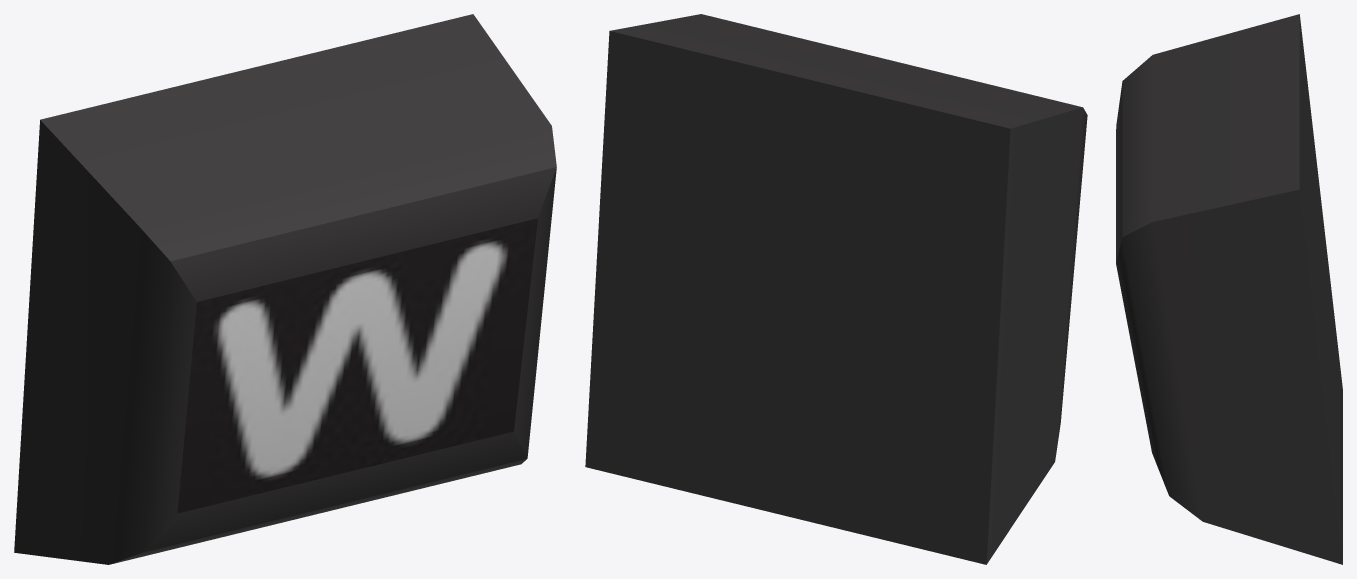
The model's file is wKEYNEW.fbx.
The picture shows the model from 3 angles, left to right: view 1: azimuth 30°, elevation 25°; view 2: azimuth 150°, elevation 25°; view 3: azimuth 270°, elevation 25°; orthographic projection. The views are drawn at different scales.
Visible parts, largest first — view 1: wKey; view 2: wKey; view 3: wKey.
Part boxes in pixels (<box>): wKey: <box>14,14,556,564</box>; wKey: <box>585,14,1087,564</box>; wKey: <box>1116,14,1342,564</box>.
Bounding box in the file's own units: 0.9975 × 0.9946 × 0.5447.
Materials: 2 (1 with a texture image).
